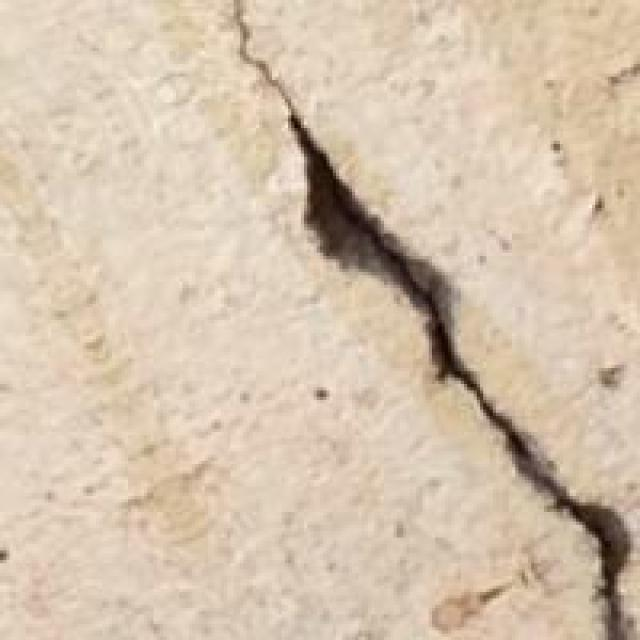Crack: (234, 9, 634, 636)
